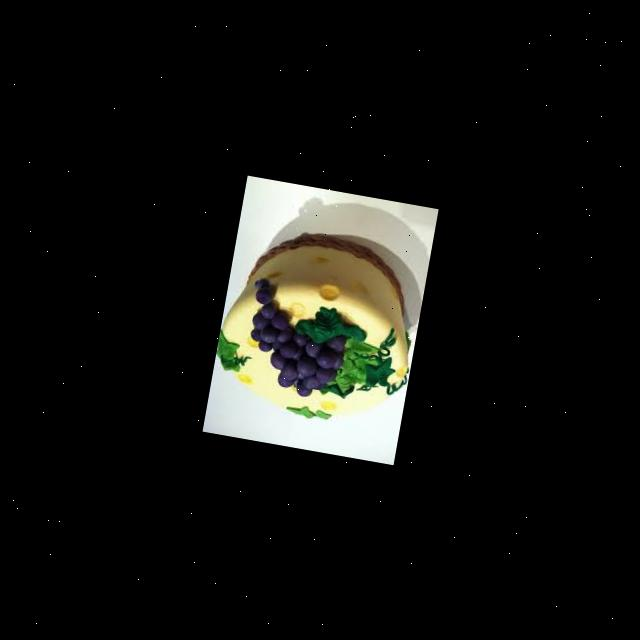grape: (236, 277, 356, 403)
